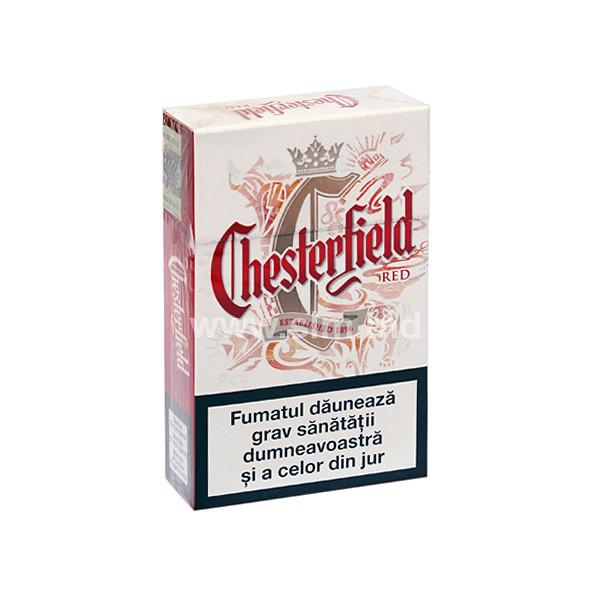chesterfield_red: (193, 131, 425, 479)
